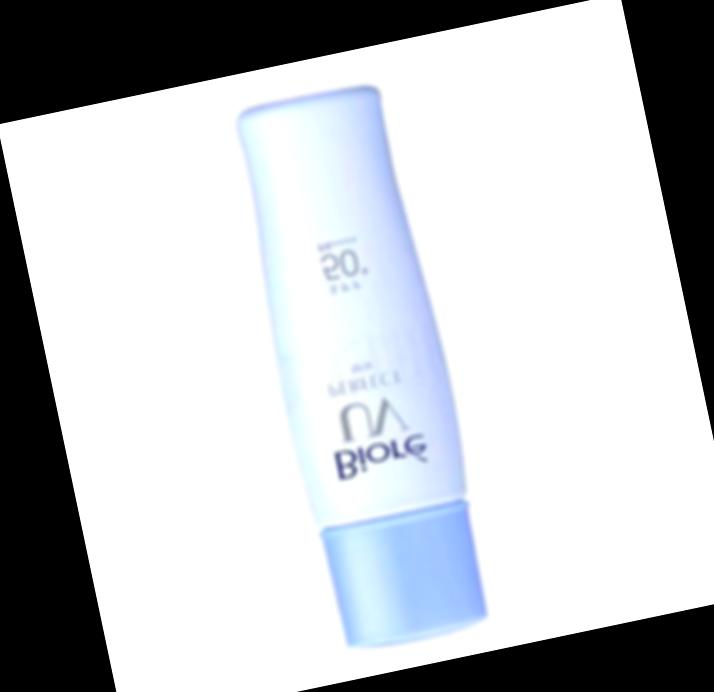cosmetic: (219, 78, 510, 655)
